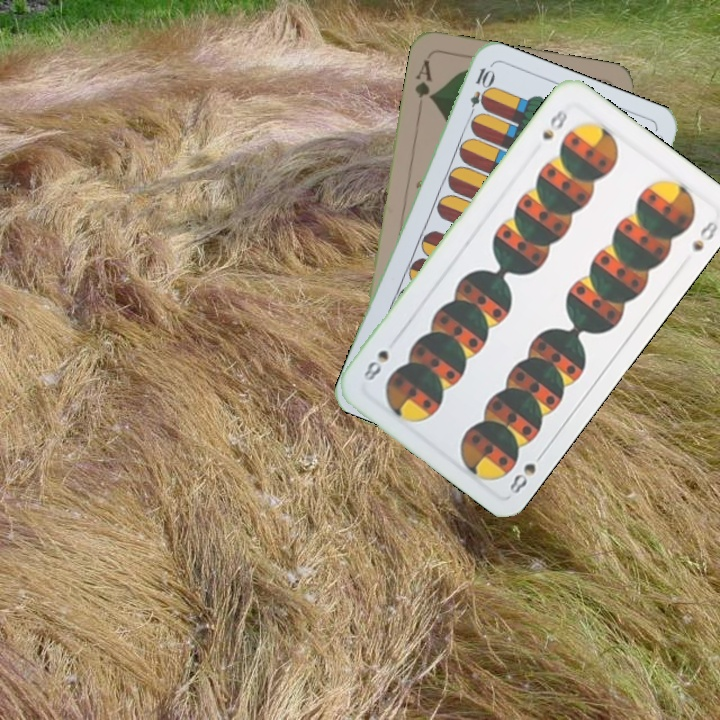E10: (464, 63, 495, 122)
GA: (410, 56, 436, 103)
S8: (505, 446, 548, 497), (538, 105, 570, 143)
